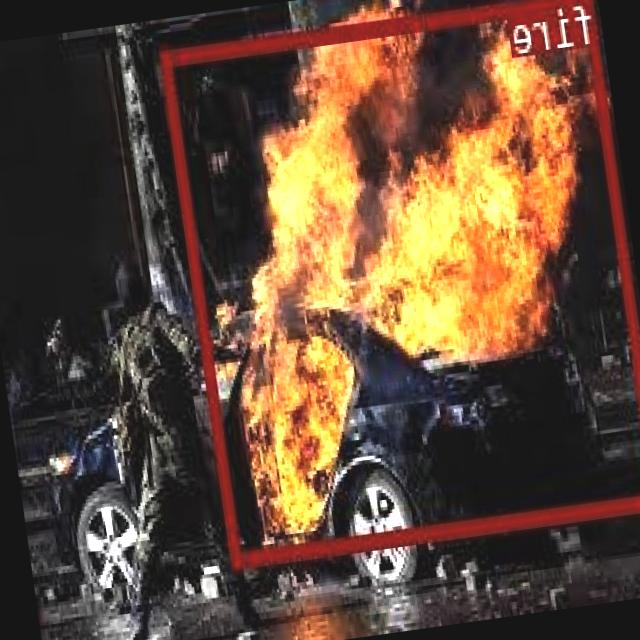fire: (161, 0, 640, 566)
